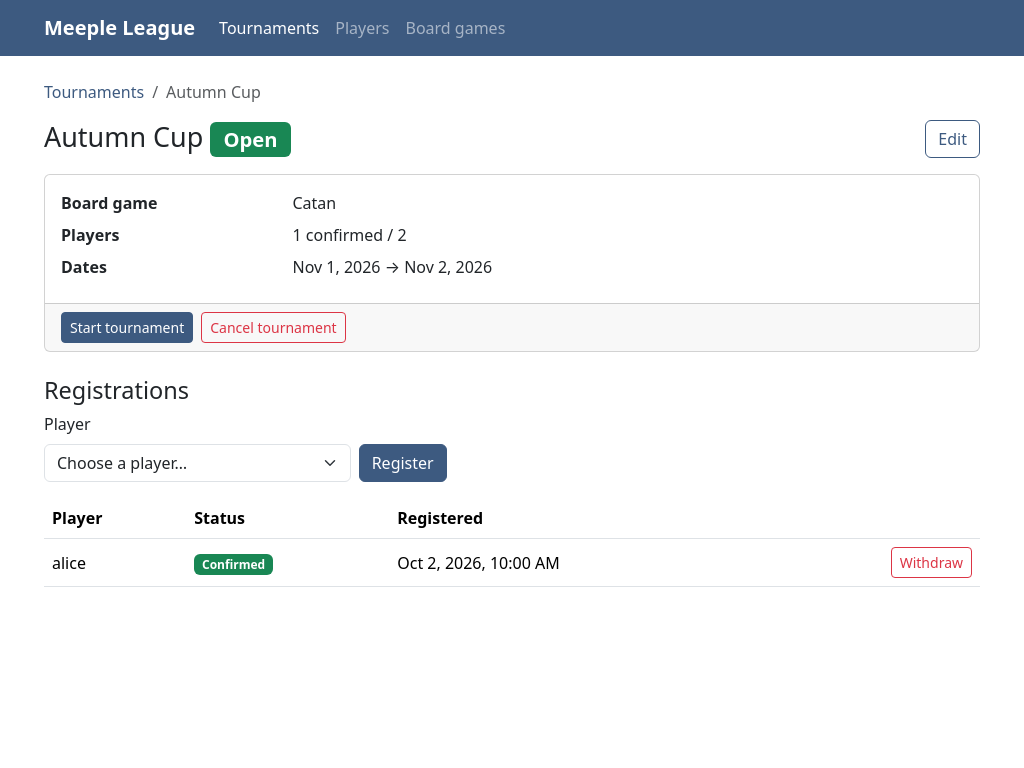
it: tournaments › withdraws a player
Step 1. Click the button "Withdraw" → (931, 563), box [891,547,972,578]
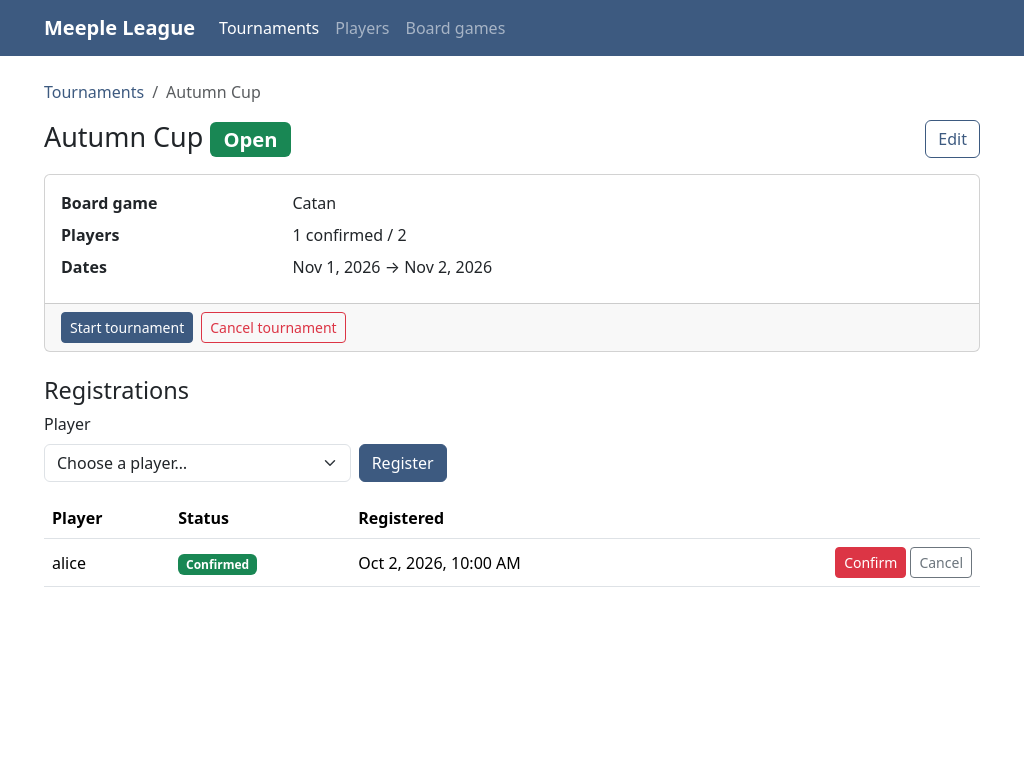
Step 2. Click the button "Confirm" → (871, 563), box [835,547,906,578]
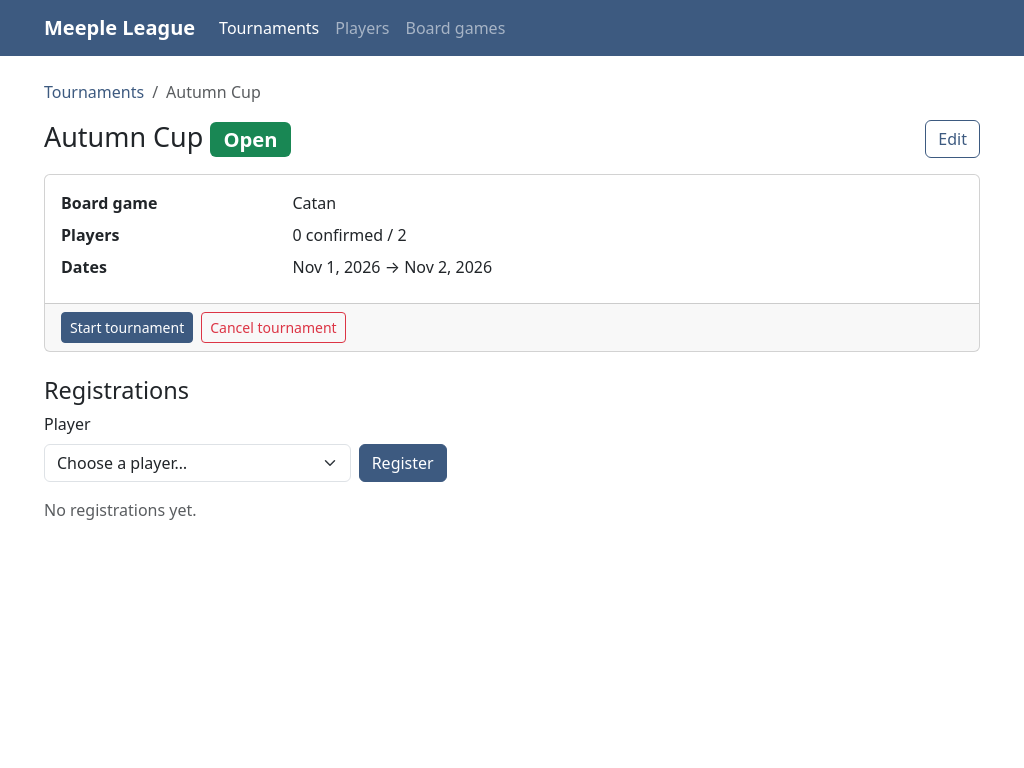
Expected: the text "No registrations yet." is shown, [44,499,196,521]
